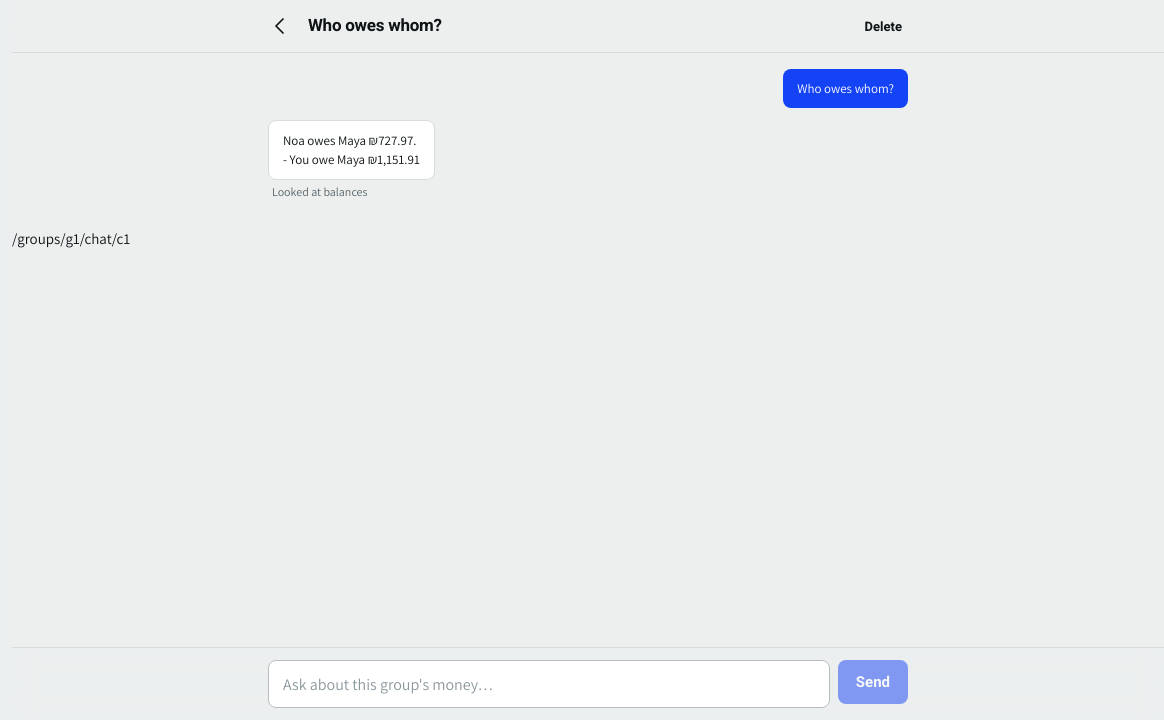
Scenario: an existing conversation › shows the thread and sends a follow-up to it
Expected: the text "Noa owes Maya ₪727.97. - You owe Maya ₪1,151.91" is shown, [268, 120, 435, 180]
In the field named "Your message": (549, 684) [268, 660, 830, 708], type "And Noa?"
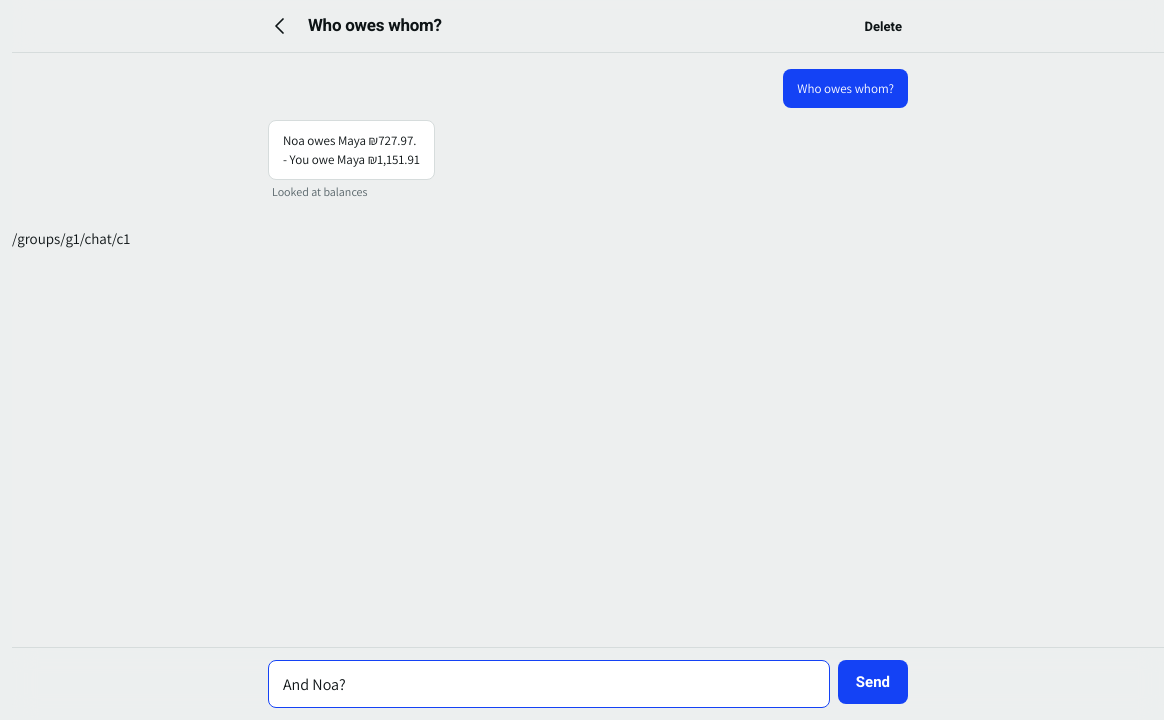
Click the button "Send": (873, 682) [838, 660, 908, 704]
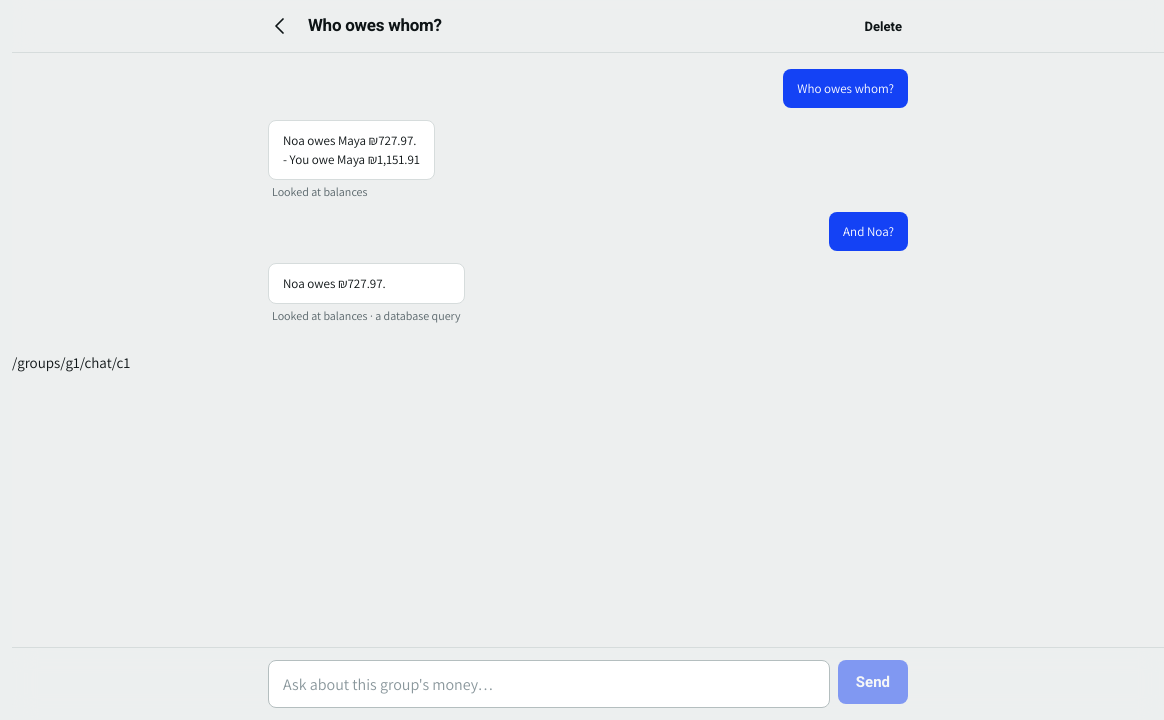
Expected: the text "Noa owes ₪727.97." is shown, [268, 263, 464, 304]
Expected: the text "Looked at balances · a database query" is shown, [268, 308, 464, 324]
